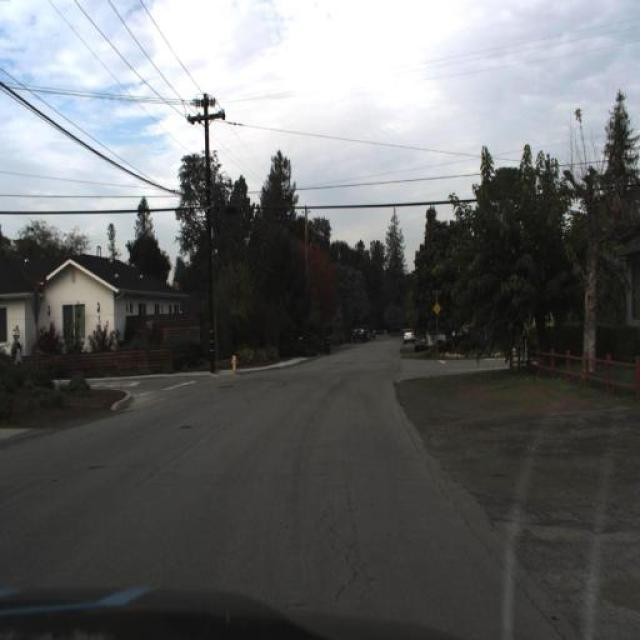car: (426, 318, 475, 352), (414, 331, 430, 353), (403, 328, 415, 344)
